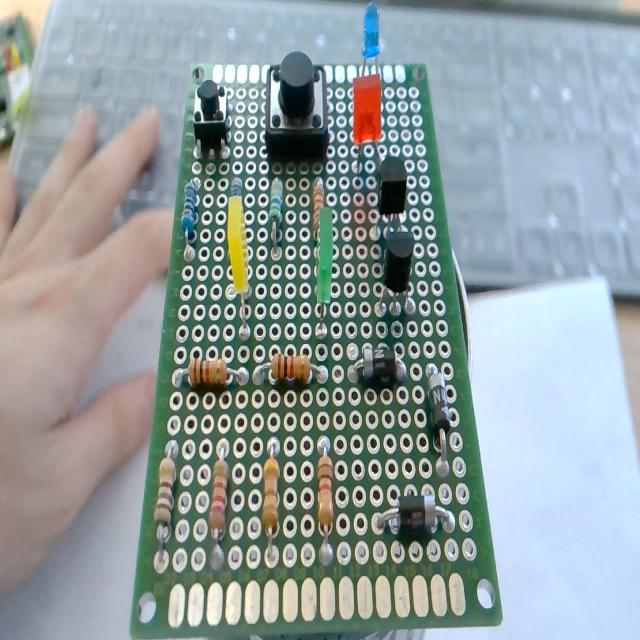diode: (376, 493, 454, 535), (426, 367, 452, 476), (349, 346, 407, 386)
led: (353, 3, 383, 179), (226, 189, 252, 338), (315, 205, 334, 338), (352, 75, 382, 148), (360, 2, 381, 75)
resistor: (154, 439, 179, 565), (209, 441, 230, 568), (254, 350, 327, 386), (178, 354, 248, 389), (317, 442, 335, 566), (262, 441, 280, 563), (181, 179, 199, 255), (268, 175, 284, 254), (312, 176, 324, 236)
switch: (264, 53, 330, 162), (192, 78, 230, 155)
transistor: (380, 227, 416, 322), (378, 158, 408, 246)
